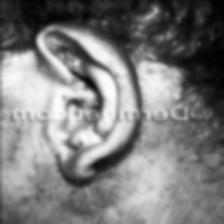Non-Cancerous Skin Condition: (34, 39, 92, 106), (128, 36, 198, 78)
